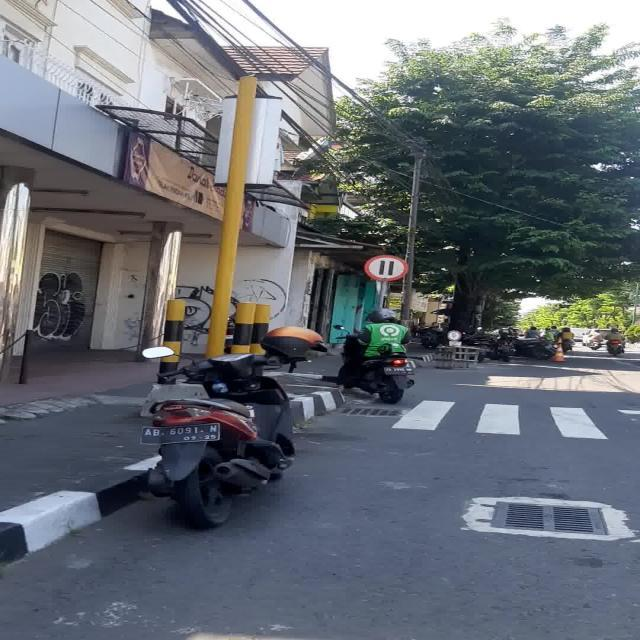Larangan Muatan - 10 ton: (364, 256, 408, 280)
